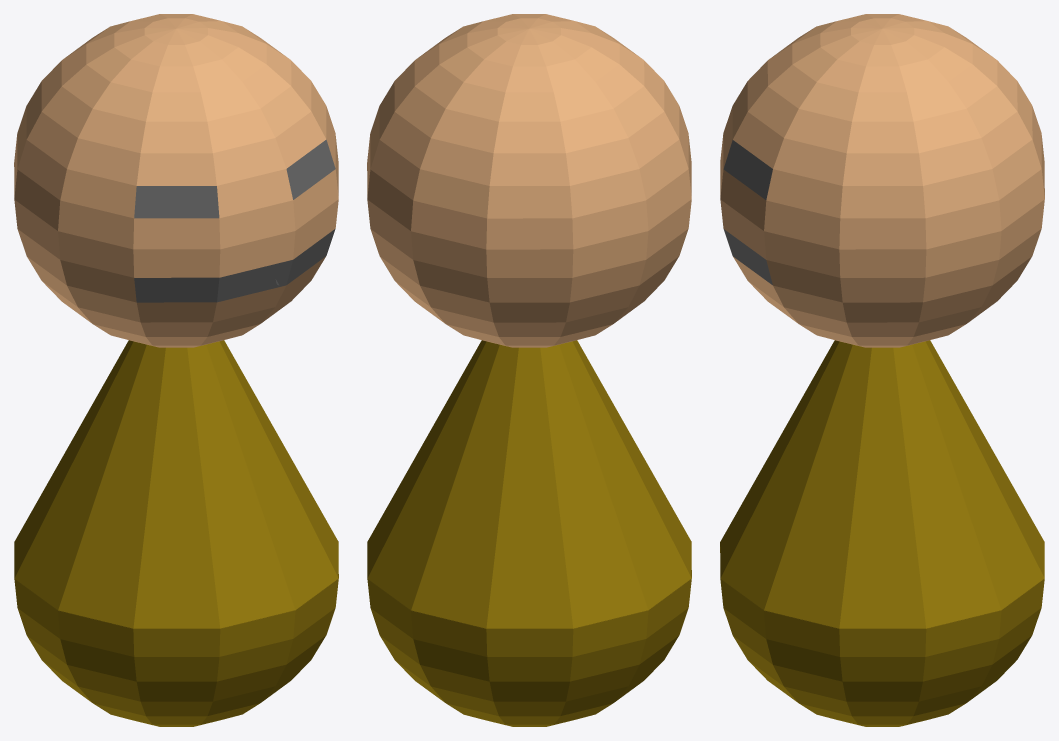
File: Chiknees.glb
3 renders of one model, left to right at view 1: azimuth 30°, elevation 25°; view 2: azimuth 150°, elevation 25°; view 3: azimuth 270°, elevation 25°, orthographic.
Visible parts, largest first — view 1: Цилиндр.001; view 2: Цилиндр.001; view 3: Цилиндр.001.
Part boxes in pixels (x1,y1,x2,y2): Цилиндр.001: [14, 14, 338, 726]; Цилиндр.001: [367, 14, 691, 726]; Цилиндр.001: [720, 14, 1044, 726].
Bounding box in the file's own units: 0.8453 × 1.96 × 0.8455.
